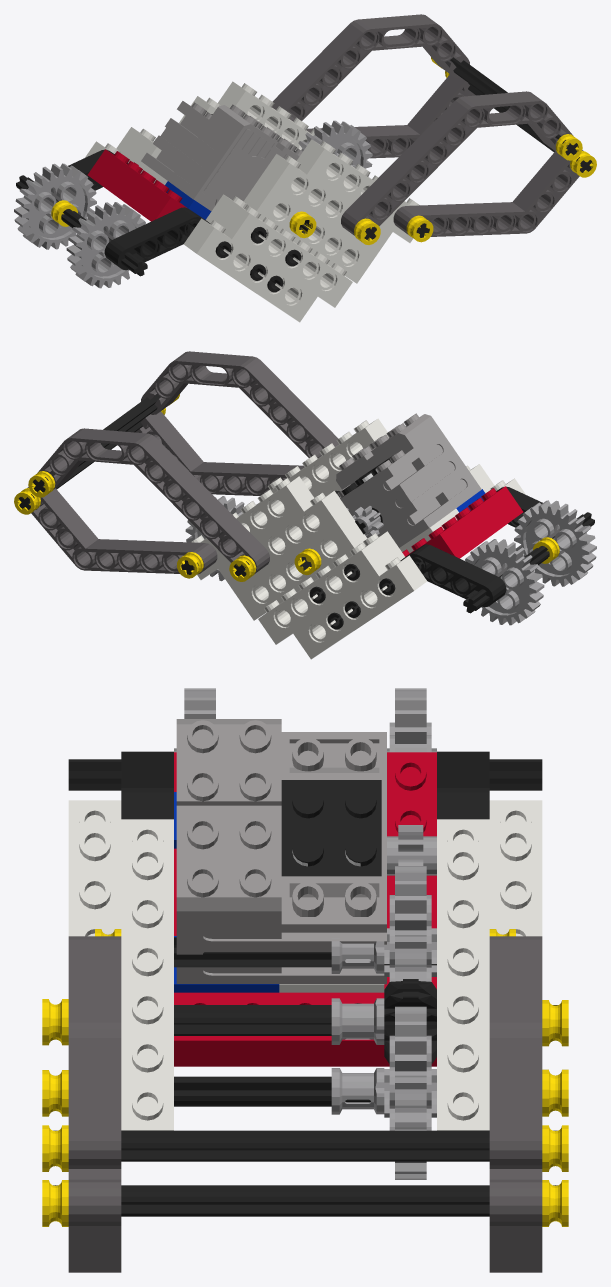
File: Eslabon3.obj
3 views of the same model, one above another, from view 1: azimuth 30°, elevation 25°; view 2: azimuth 150°, elevation 25°; view 3: azimuth 270°, elevation 25° (orthographic). The views are drawn at different scales.
Visible parts, largest first — view 1: default; view 2: default; view 3: default.
Boxes of the visible parts, x1=… form: default: x1=14, y1=14, x2=596, y2=322; default: x1=14, y1=351, x2=596, y2=659; default: x1=42, y1=688, x2=568, y2=1272.
Bounding box in the file's own units: 1.68 × 0.6202 × 0.7874.
